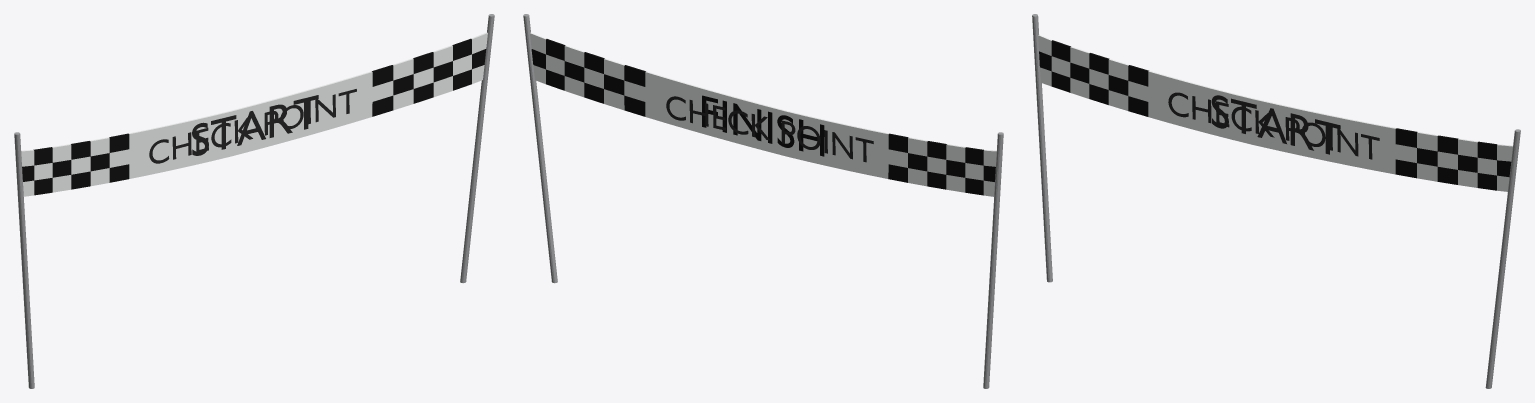
The model's file is Start_CheckPoint.fbx.
3 views of the same model, side by side, from view 1: azimuth 30°, elevation 25°; view 2: azimuth 150°, elevation 25°; view 3: azimuth 330°, elevation 25° (orthographic).
Visible parts, largest first — view 1: Start, Check_Point; view 2: Start, Check_Point; view 3: Start, Check_Point.
Part boxes in pixels (box(x1,y1,x2,y2)): Start: box(14, 14, 494, 388); Check_Point: box(149, 89, 356, 163); Start: box(523, 14, 1003, 388); Check_Point: box(666, 96, 873, 162); Start: box(1032, 14, 1520, 388); Check_Point: box(1168, 92, 1379, 159).
Bounding box in the file's own units: 2237 × 1160 × 24.31.
